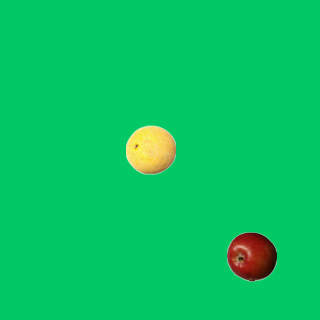Apple Braeburn: (226, 231, 276, 281)
Cantaloupe 1: (125, 124, 175, 174)
